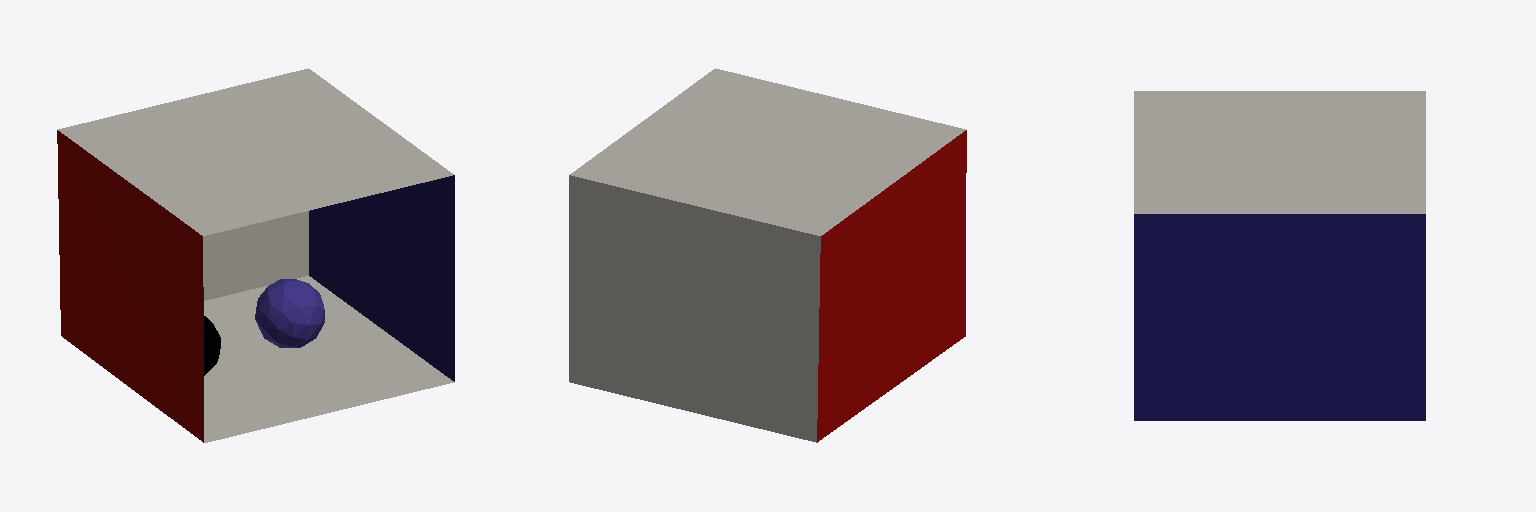
The model's file is CornellBox-Sphere-559.obj.
The picture shows the model from 3 angles: view 1: azimuth 30°, elevation 25°; view 2: azimuth 150°, elevation 25°; view 3: azimuth 270°, elevation 25°; orthographic projection.
Parts seen in each view (by area): view 1: ceiling, leftWall, floor, rightWall, backWall, leftSphere, rightSphere; view 2: backWall, ceiling, leftWall; view 3: rightWall, ceiling.
Part boxes in pixels (x1,y1,x2,y2): ceiling: (58, 68, 453, 235); leftWall: (57, 130, 203, 442); floor: (204, 276, 453, 442); rightWall: (309, 175, 454, 381); backWall: (203, 211, 308, 300); leftSphere: (255, 279, 324, 347); rightSphere: (204, 316, 220, 375); backWall: (569, 175, 820, 442); ceiling: (570, 68, 965, 235); leftWall: (817, 130, 966, 442); rightWall: (1134, 214, 1425, 420); ceiling: (1134, 91, 1425, 213).
Size of the model in its own units: 2.02 by 1.59 by 2.03.